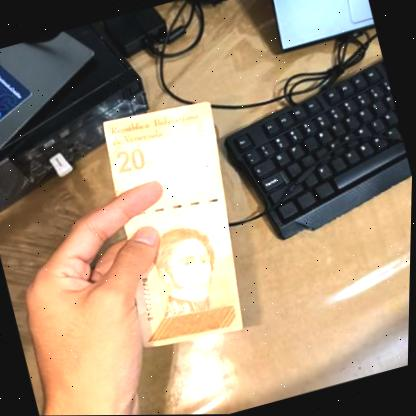twenty-front-vef: (87, 91, 270, 355)
